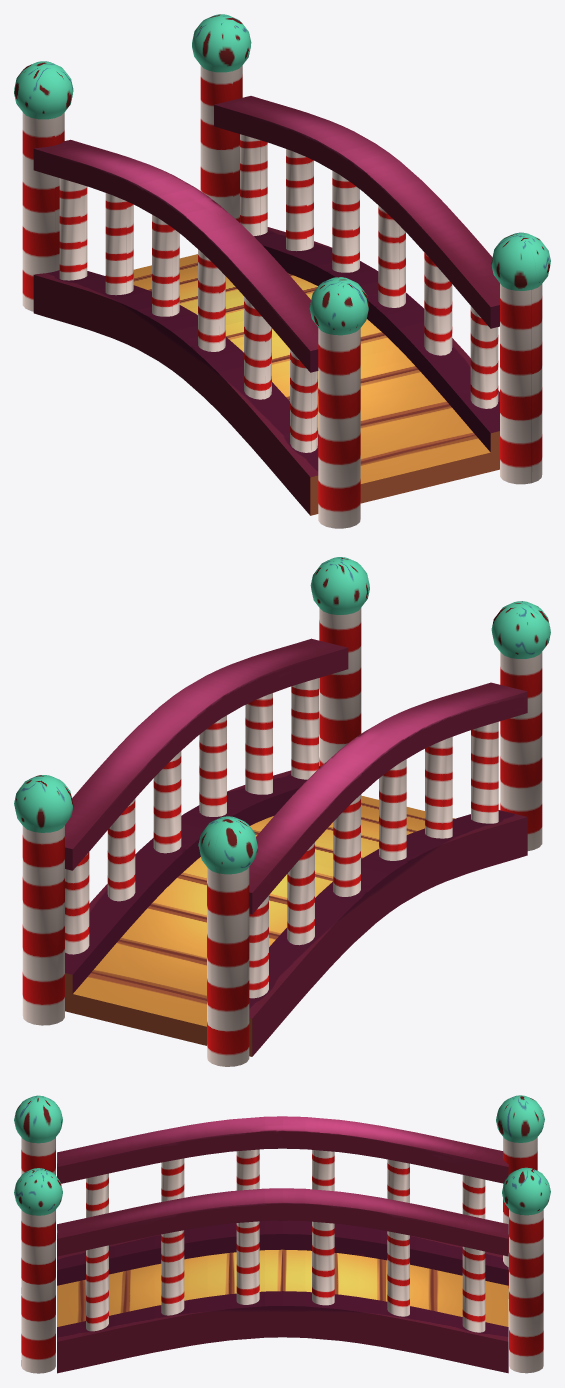
File: pont.fbx
3 renders of one model, top to bottom at view 1: azimuth 30°, elevation 25°; view 2: azimuth 150°, elevation 25°; view 3: azimuth 270°, elevation 25°, orthographic. The views are drawn at different scales.
Parts seen in each view (by area): view 1: pont; view 2: pont; view 3: pont.
Boxes of the visible parts, box(x1,y1,x2,y2) form: pont: box(14, 14, 550, 528); pont: box(14, 557, 550, 1066); pont: box(14, 1095, 550, 1373).
Bounding box in the file's own units: 1271 × 1243 × 3086.
